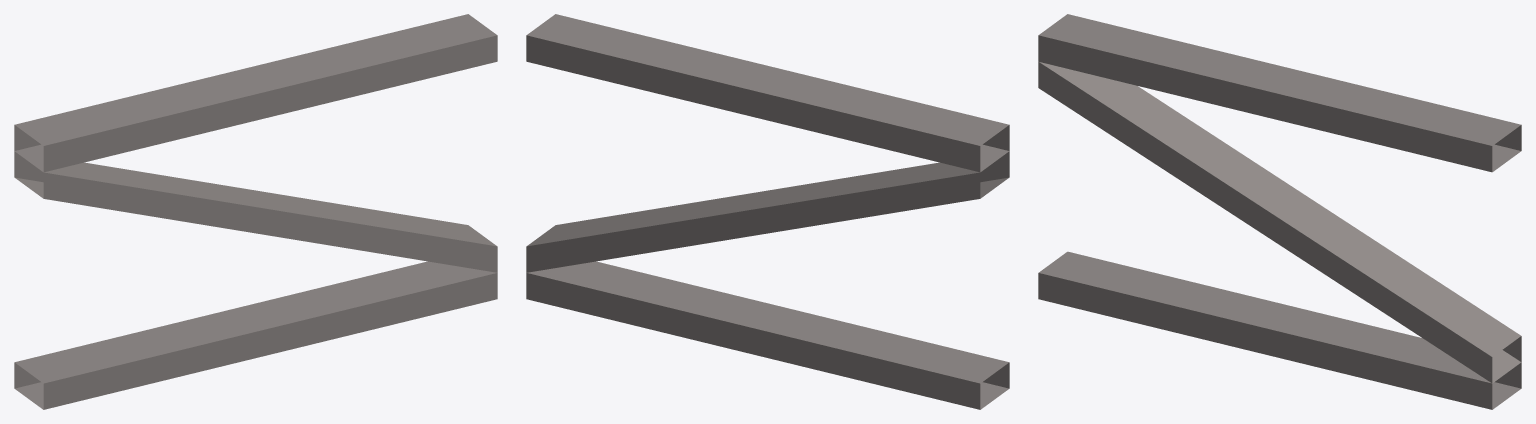
The model's file is SM_Beam_Ceiling_180.fbx.
The picture shows the model from 3 angles, left to right: view 1: azimuth 30°, elevation 25°; view 2: azimuth 150°, elevation 25°; view 3: azimuth 330°, elevation 25°; orthographic projection.
Visible parts, largest first — view 1: SM_Beam_Ceiling_180; view 2: SM_Beam_Ceiling_180; view 3: SM_Beam_Ceiling_180.
Part boxes in pixels (x1,y1,x2,y2): SM_Beam_Ceiling_180: [14, 14, 497, 409]; SM_Beam_Ceiling_180: [526, 14, 1009, 409]; SM_Beam_Ceiling_180: [1038, 14, 1521, 409].
Bounding box in the file's own units: 180 × 100 × 20.
